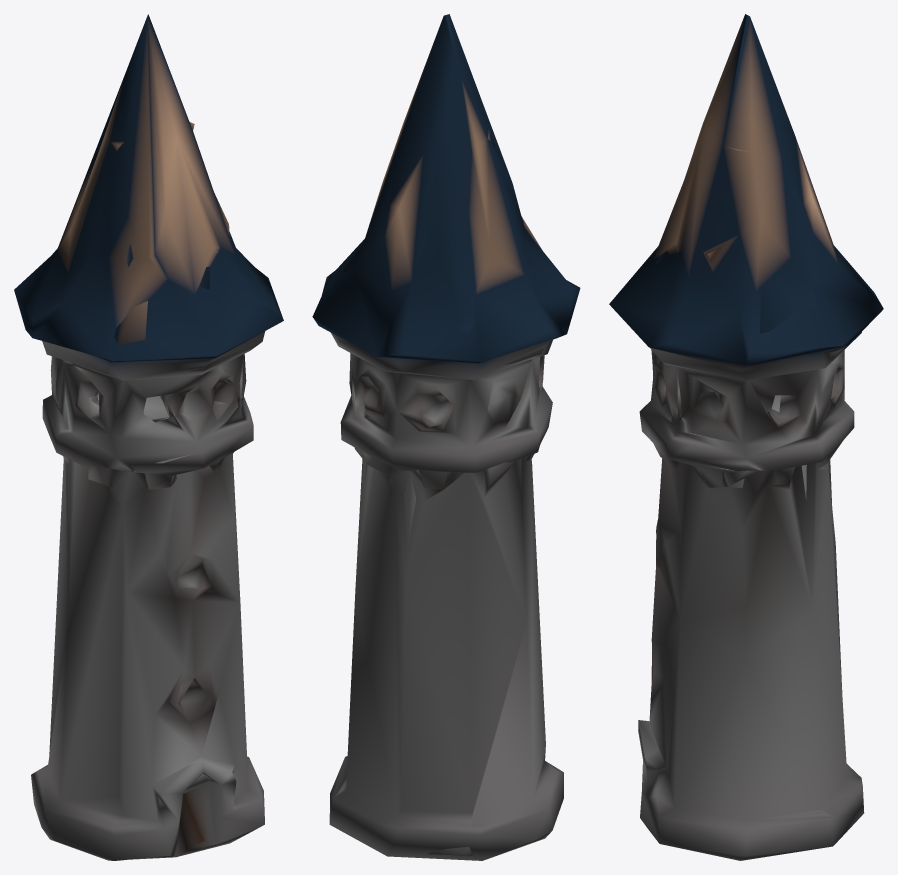
Rendered from gen3d-wizard-tower-lod1.glb.
3 views of the same model, side by side, from view 1: azimuth 30°, elevation 25°; view 2: azimuth 150°, elevation 25°; view 3: azimuth 270°, elevation 25° (orthographic).
Parts seen in each view (by area): view 1: part_0; view 2: part_0; view 3: part_0.
Boxes of the visible parts, box(x1,y1,x2,y2) form: part_0: box(14, 14, 283, 860); part_0: box(312, 14, 580, 860); part_0: box(609, 14, 883, 860).
Bounding box in the file's own units: 0.3102 × 0.9958 × 0.3105.
